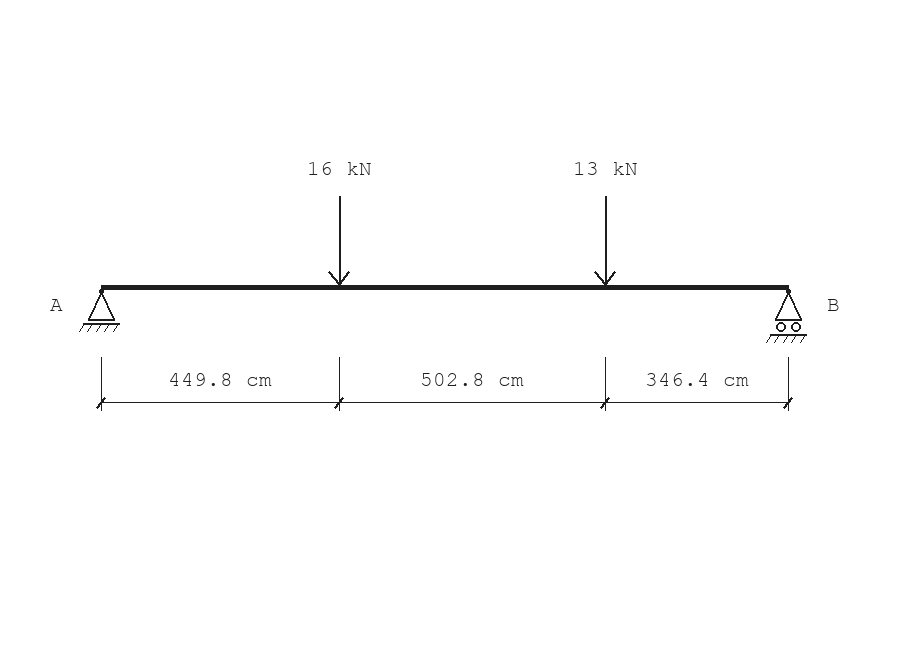pin_support: (79, 289, 120, 332)
point_load: (328, 196, 350, 286), (594, 196, 616, 286)
roller_support: (766, 289, 807, 343)
